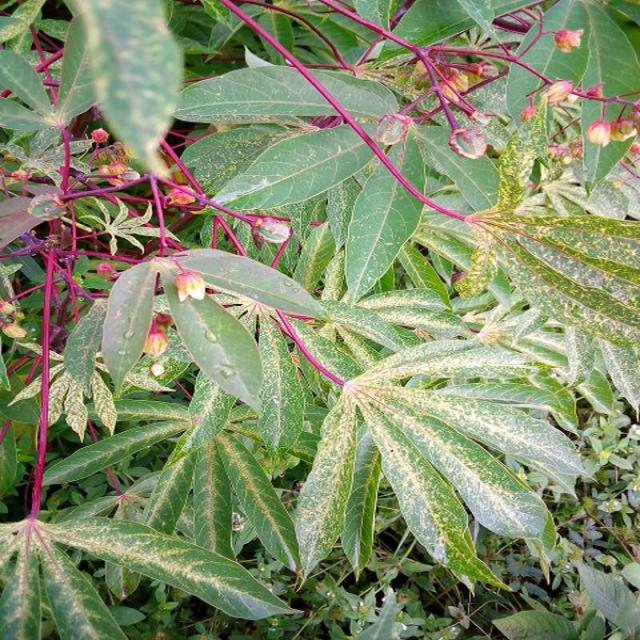cassava leaf: (4, 1, 638, 634), (162, 268, 264, 415)
